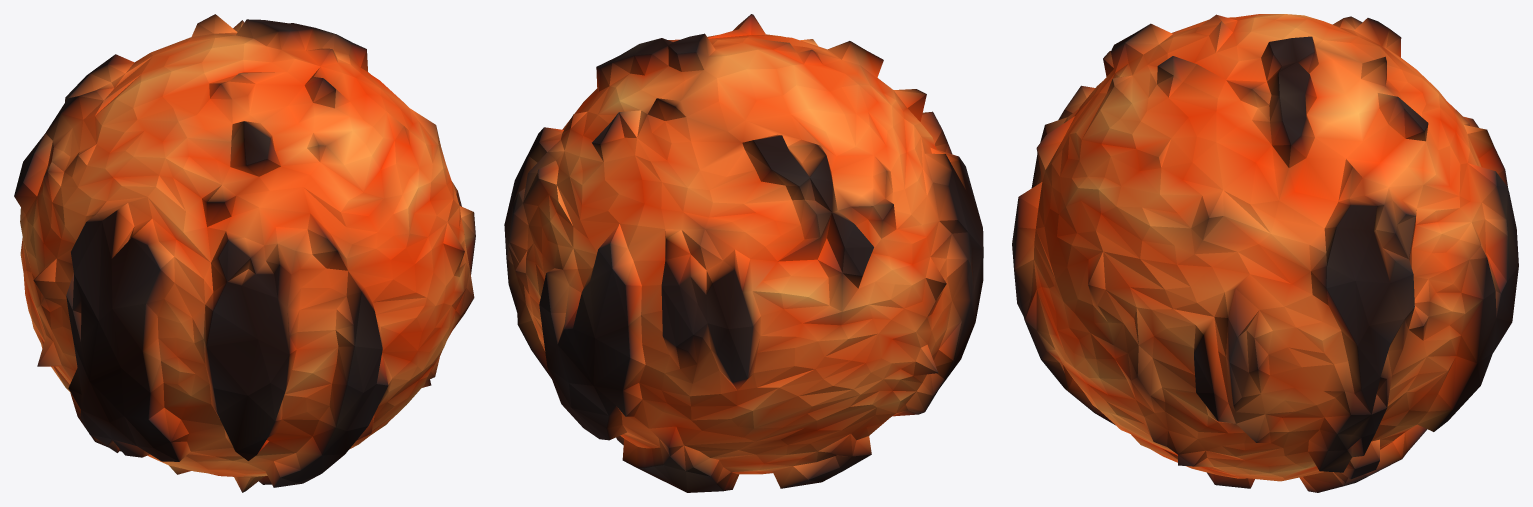
The model's file is barren_17.fbx.
3 renders of one model, left to right at view 1: azimuth 30°, elevation 25°; view 2: azimuth 150°, elevation 25°; view 3: azimuth 270°, elevation 25°, orthographic. The views are drawn at different scales.
Visible parts, largest first — view 1: filecache1; view 2: filecache1; view 3: filecache1.
Part boxes in pixels (<box>): filecache1: <box>14,14,475,492</box>; filecache1: <box>504,14,983,492</box>; filecache1: <box>1012,14,1518,492</box>.
Size of the model in its own units: 2.17 by 2.17 by 2.19.
